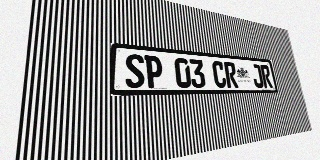0: (174, 57, 192, 88)
3: (189, 59, 206, 88)
C: (211, 61, 227, 88)
J: (251, 64, 264, 88)
P: (144, 55, 163, 88)
R: (224, 62, 238, 88), (260, 65, 273, 88)
S: (125, 53, 145, 88)
